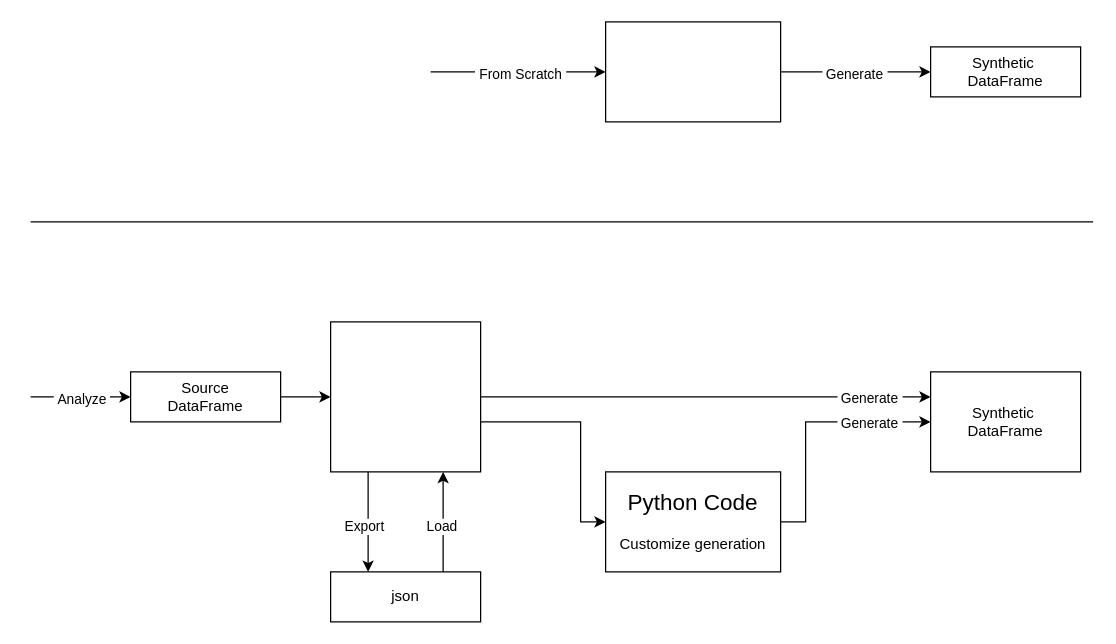
This 1116x644 diagram has some shape labels left out. Here are the shapes that lost their labels. From the top down, the centre of each, then its label:
At point 692,71: "Python Code".
At point 405,396: "Data Profile schema + content_spec".
